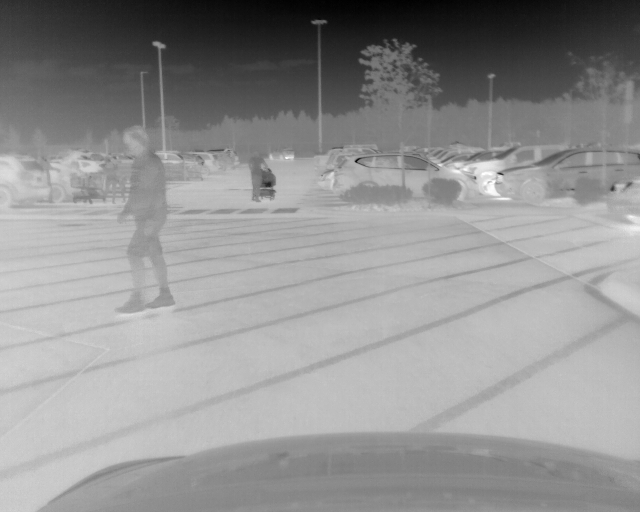car: (492, 146, 640, 207), (331, 151, 477, 204), (462, 144, 572, 195), (2, 150, 52, 210), (50, 161, 93, 200), (155, 150, 203, 169), (192, 151, 222, 175), (217, 148, 241, 171), (268, 146, 296, 160)
people: (115, 125, 176, 311), (247, 150, 271, 202), (101, 158, 117, 202), (115, 159, 129, 201)
